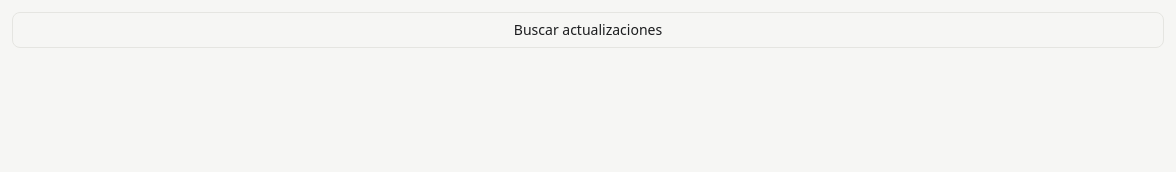
Test case: <UpdateButton/> › muestra el error si no hay conexión
Click the button "Buscar actualizaciones".
click(588, 30)  # box 12,12 -> 1164,48
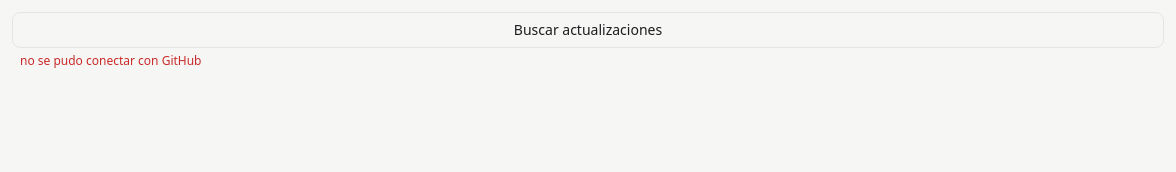
Check: the text "no se pudo conectar con GitHub" is shown, box 20,52 -> 202,69
